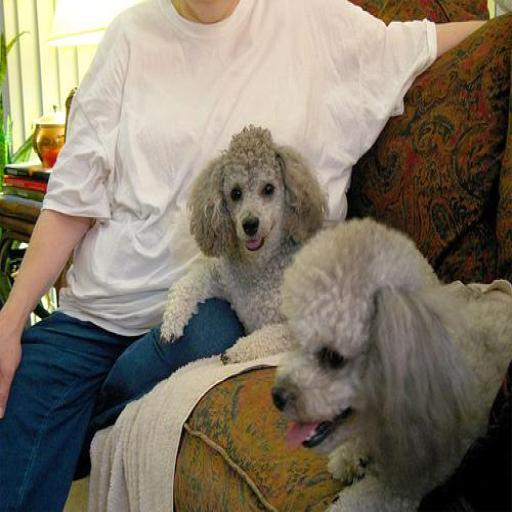dog_face: (185, 125, 325, 261)
